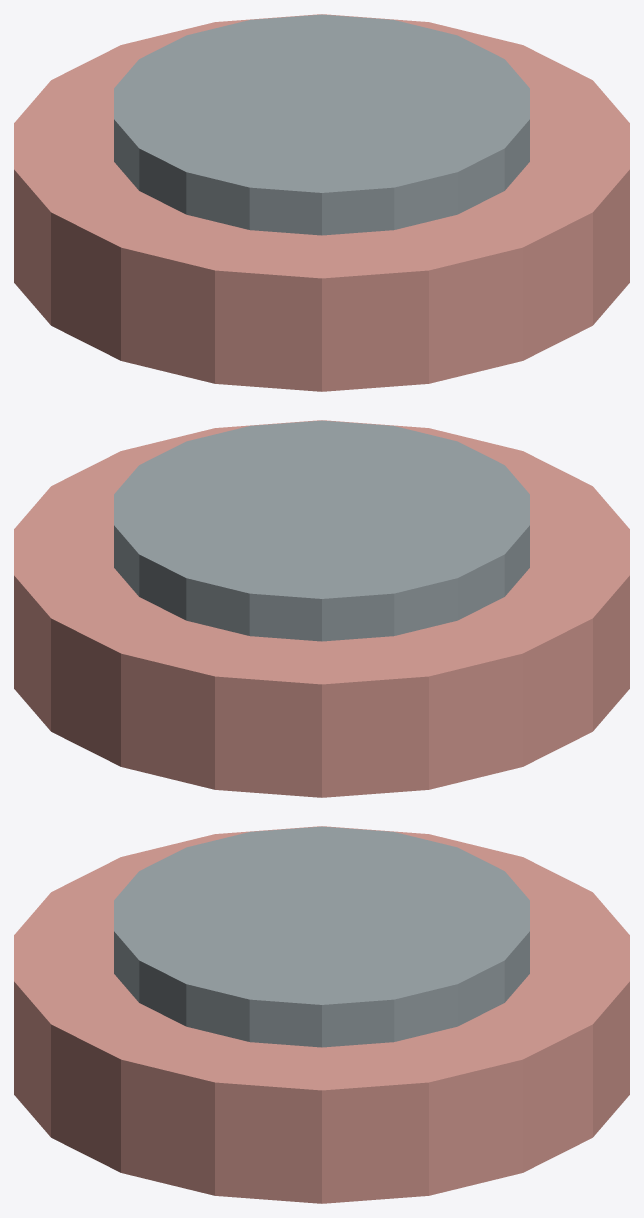
File: pet_bowl.glb
The picture shows the model from 3 angles, top to bottom: view 1: azimuth 30°, elevation 25°; view 2: azimuth 150°, elevation 25°; view 3: azimuth 270°, elevation 25°; orthographic projection.
Visible parts, largest first — view 1: part_00, part_01; view 2: part_00, part_01; view 3: part_00, part_01.
Boxes of the visible parts, left/top/right/bottom form: part_00: left=14, top=14, right=629, bottom=391; part_01: left=114, top=14, right=529, bottom=235; part_00: left=14, top=420, right=629, bottom=797; part_01: left=114, top=420, right=529, bottom=641; part_00: left=14, top=826, right=629, bottom=1203; part_01: left=114, top=826, right=529, bottom=1047.
Bounding box in the file's own units: 0.8 × 0.22 × 0.7878.
